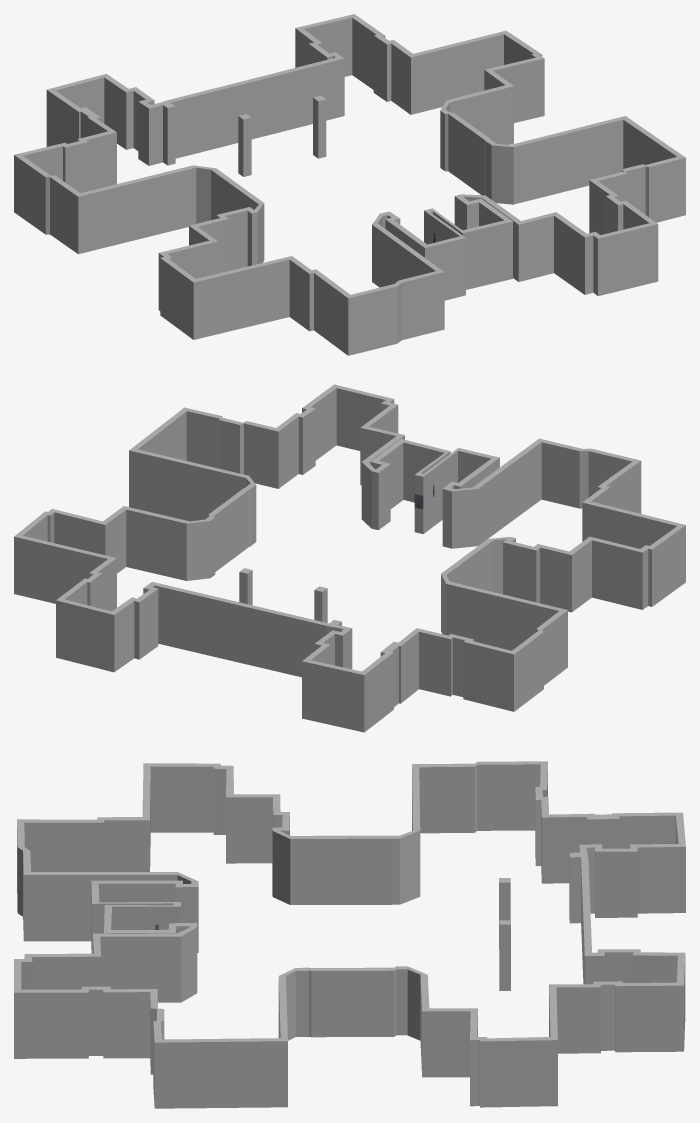
Rendered from floor.dae.
3 renders of one model, top to bottom at view 1: azimuth 30°, elevation 25°; view 2: azimuth 150°, elevation 25°; view 3: azimuth 270°, elevation 25°, orthographic. The views are drawn at different scales.
Parts seen in each view (by area): view 1: wall, pillar_west, pillar_east; view 2: wall; view 3: wall, pillar_west, pillar_east.
Boxes of the visible parts, x1,y1,x2,y2 form: wall: (14,14,685,355); pillar_west: (313,95,326,158); pillar_east: (238,114,251,176); wall: (14,384,685,732); wall: (14,761,685,1108); pillar_west: (499,920,510,990); pillar_east: (499,878,510,948).
Bounding box in the file's own units: 18.25 × 18.43 × 2.
